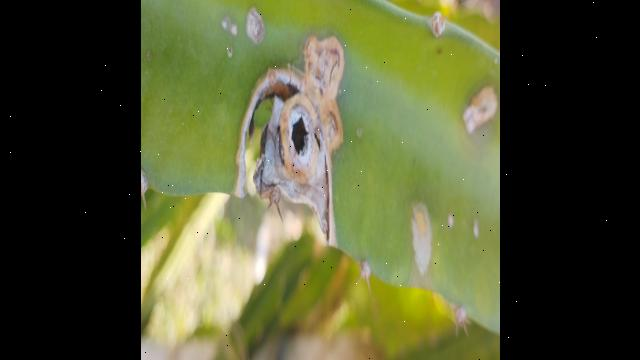stemcanker: (240, 6, 270, 48), (217, 16, 240, 41), (470, 214, 483, 241), (444, 210, 458, 232)
